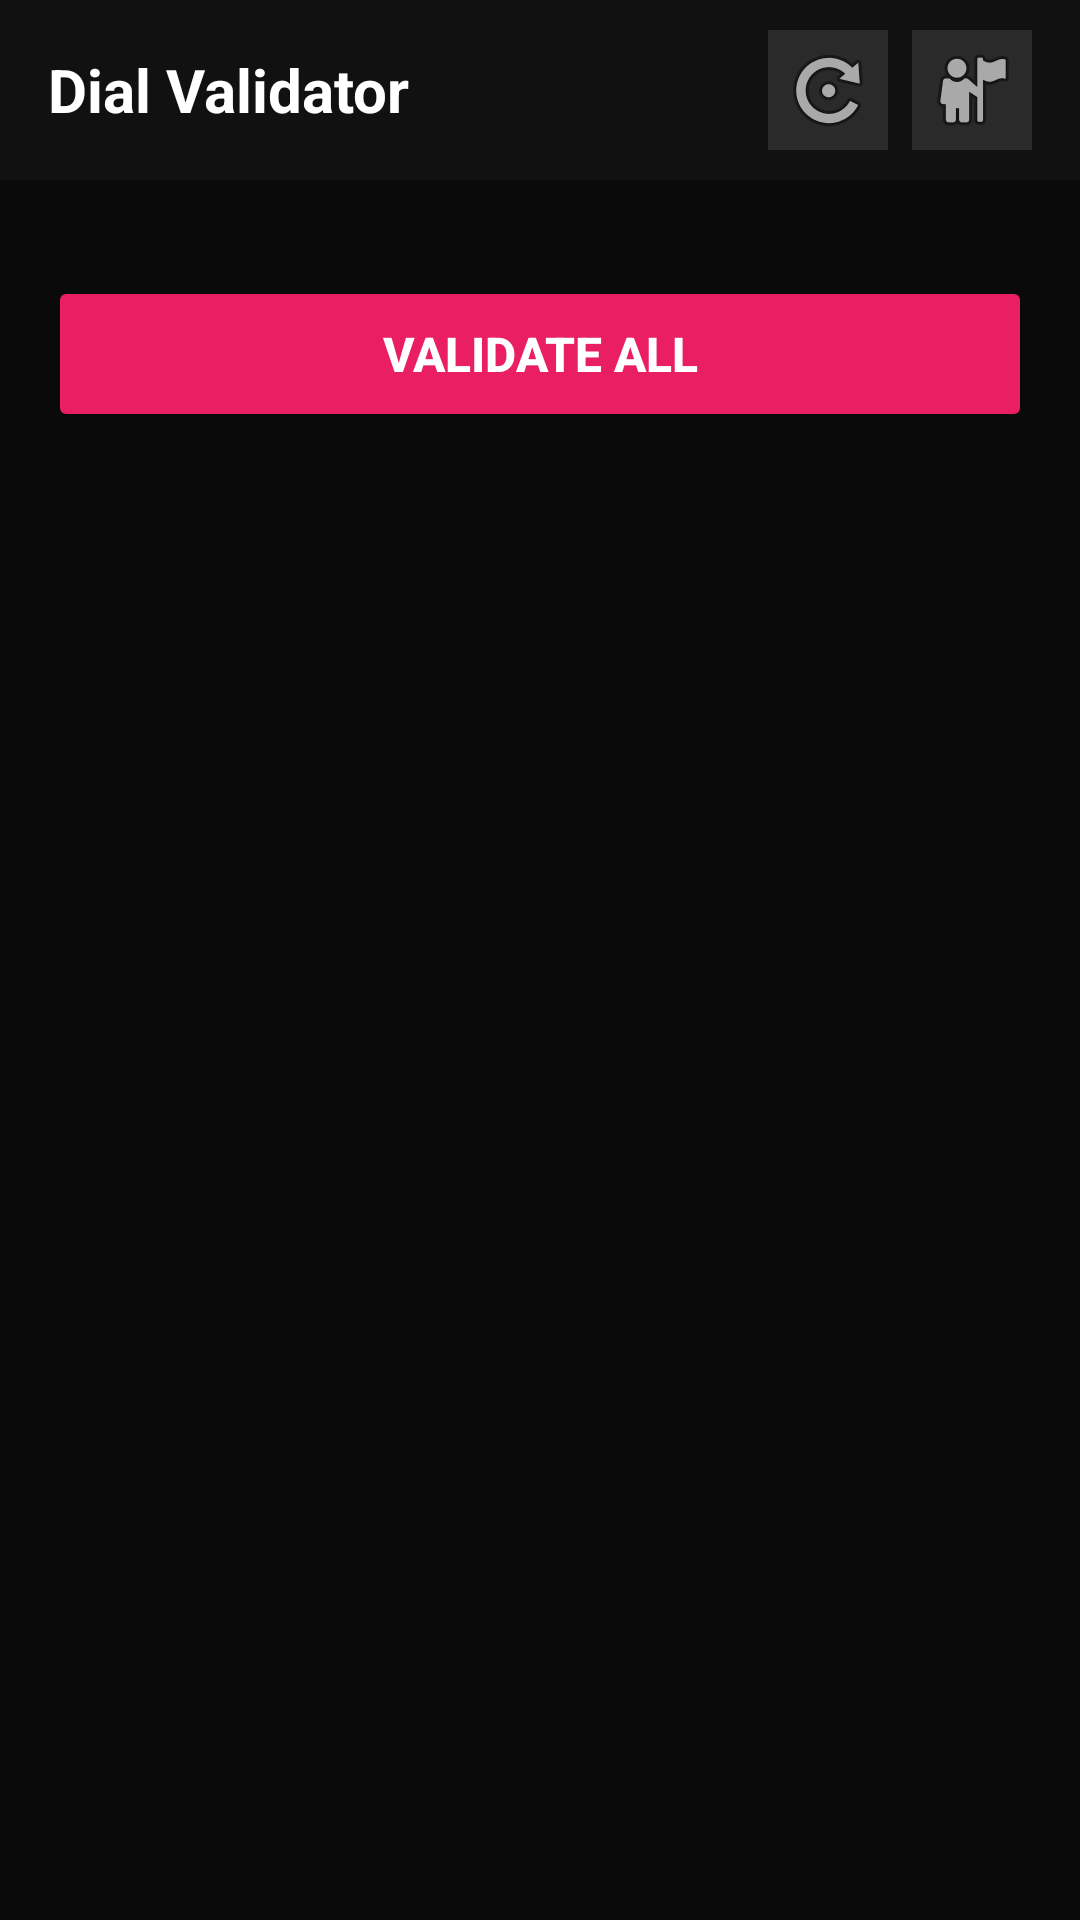

Icons on this 1080w x 1920h Android screen, each with its box as (x1, y1, x2, y2):
Refresh: (768, 30, 888, 150)
